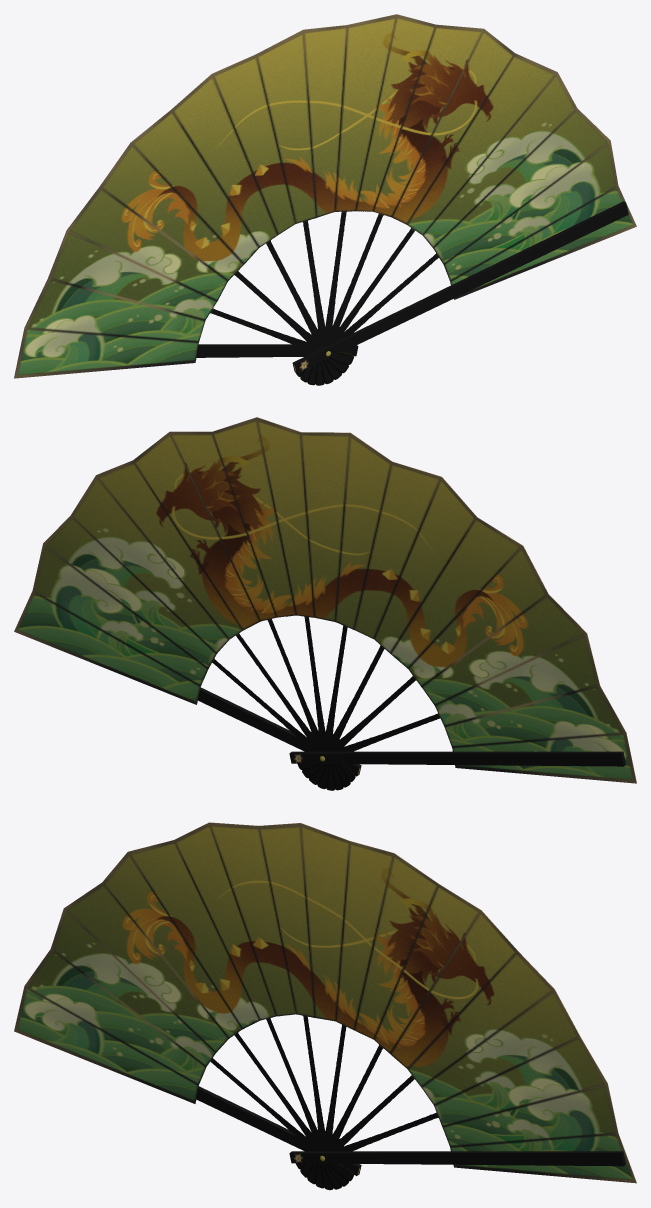
Rendered from Homeworld_Interior_Ly_Walldecoration_Prop_StorytellersFan_01_Vo.fbx.
3 renders of one model, top to bottom at view 1: azimuth 30°, elevation 25°; view 2: azimuth 150°, elevation 25°; view 3: azimuth 330°, elevation 25°, orthographic.
Parts seen in each view (by area): view 1: Equip_Sensu_01_Model; view 2: Equip_Sensu_01_Model; view 3: Equip_Sensu_01_Model.
Part boxes in pixels (<box>): Equip_Sensu_01_Model: <box>14,14,636,385</box>; Equip_Sensu_01_Model: <box>14,417,636,790</box>; Equip_Sensu_01_Model: <box>14,822,636,1190</box>.
Size of the model in its own units: 1.01 by 0.5627 by 0.0206.
Materials: 1 (1 with a texture image).
